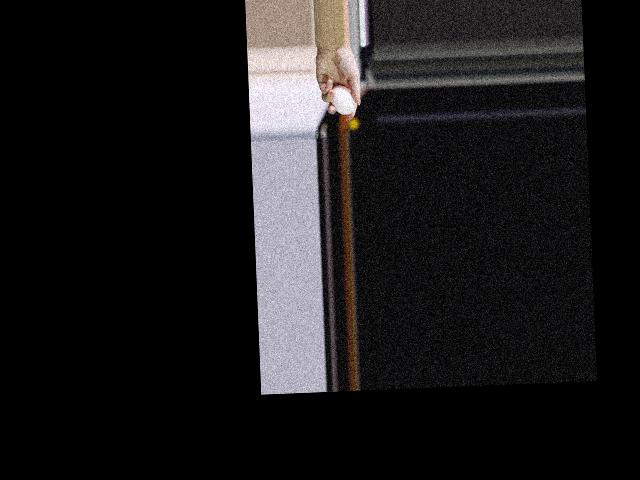egg: (330, 85, 355, 115)
